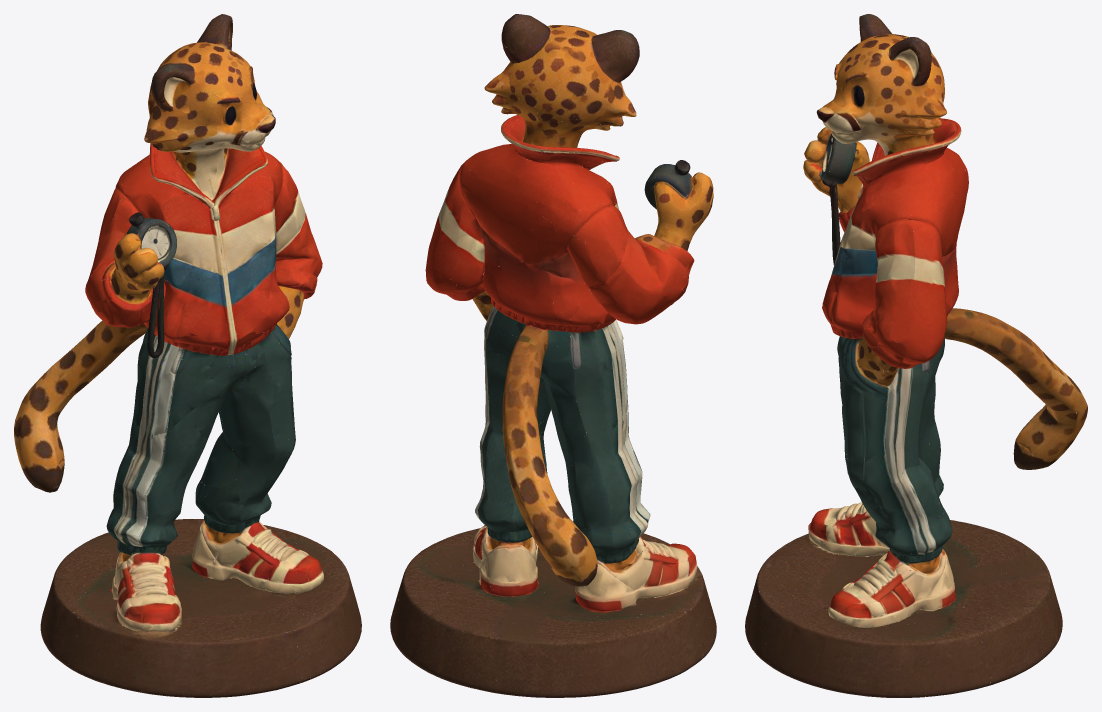
Rendered from web.glb.
3 views of the same model, side by side, from view 1: azimuth 30°, elevation 25°; view 2: azimuth 150°, elevation 25°; view 3: azimuth 270°, elevation 25° (orthographic).
Visible parts, largest first — view 1: cheetah; view 2: cheetah; view 3: cheetah.
Boxes of the visible parts, x1,y1,x2,y2 form: cheetah: [14, 14, 361, 697]; cheetah: [390, 14, 716, 697]; cheetah: [745, 14, 1087, 697].
Size of the model in its own units: 0.4834 by 1 by 0.5108.
Materials: 1 (1 with a texture image).
